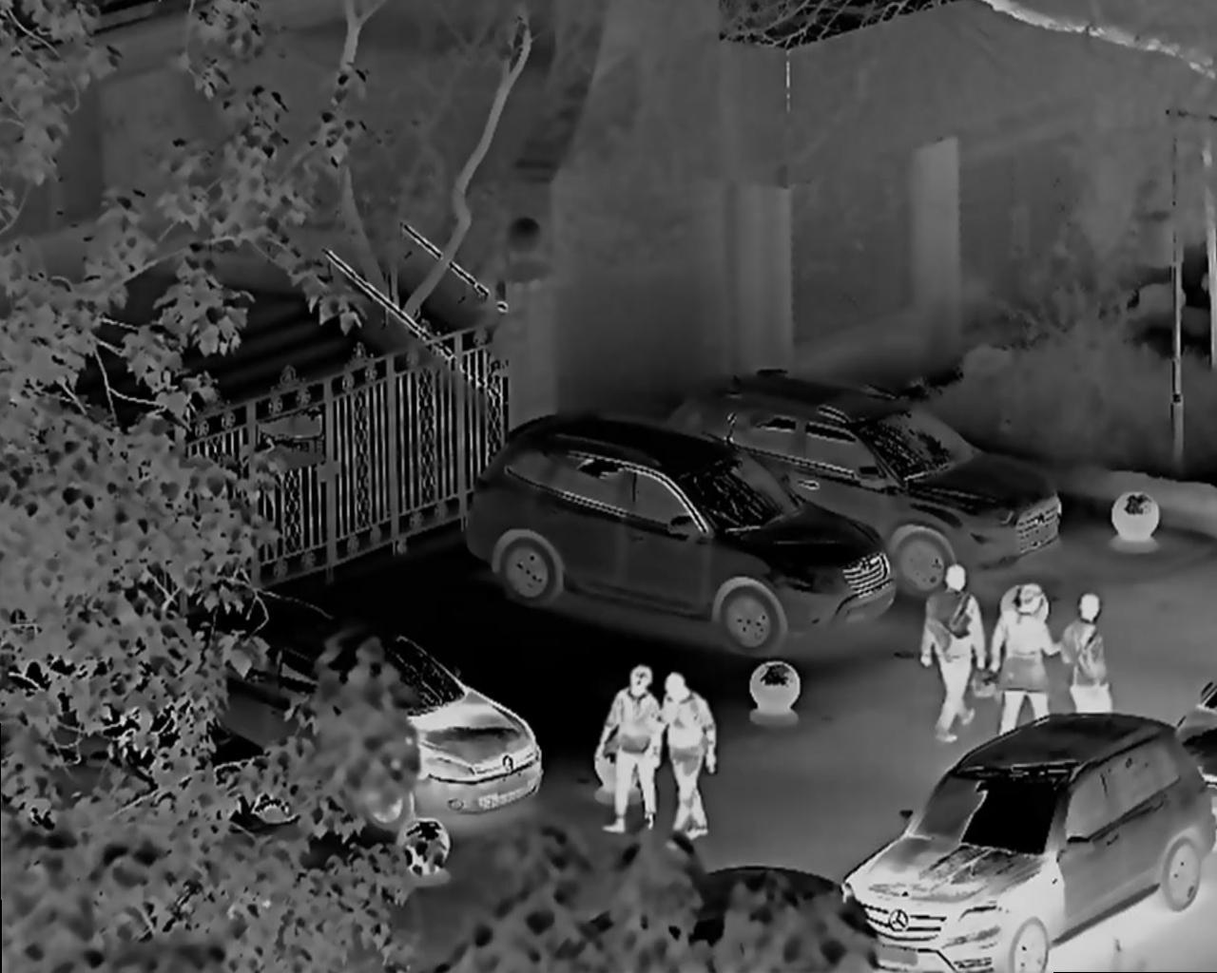person: (597, 662, 666, 870), (918, 557, 983, 761), (655, 677, 729, 852), (990, 577, 1063, 739), (1062, 583, 1125, 732)
